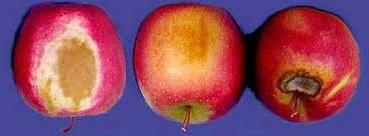red apple: (133, 3, 246, 126)
rotten apple: (9, 3, 129, 125), (253, 8, 360, 124)
